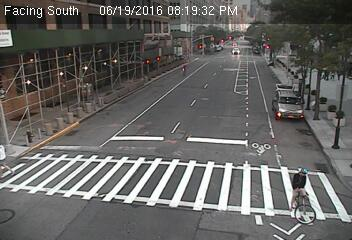neg: (275, 157, 327, 227), (17, 100, 53, 149), (47, 56, 81, 102)
